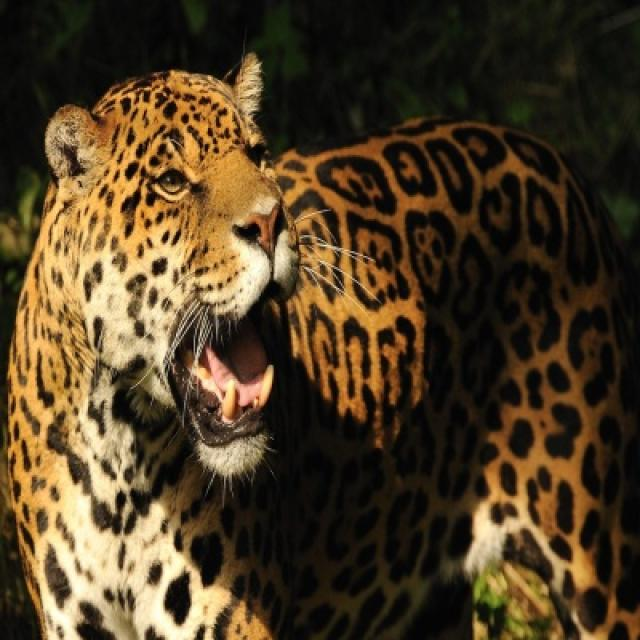Jaguar: (0, 53, 638, 638)
